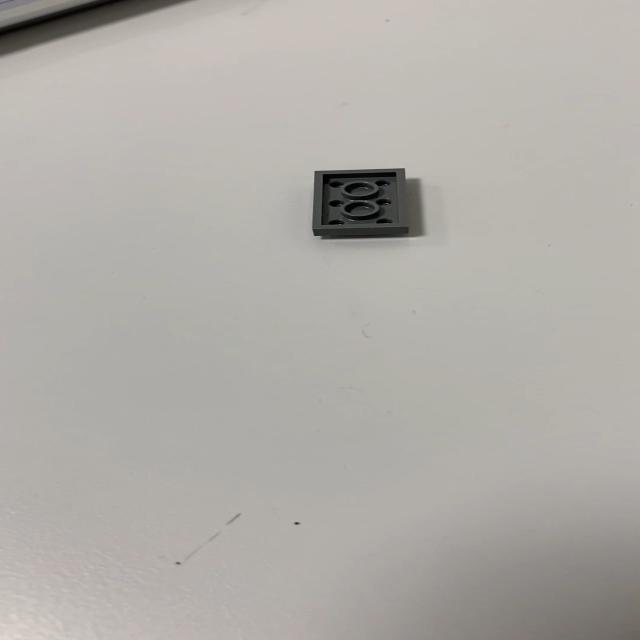C3x2x0: (311, 168, 410, 238)
